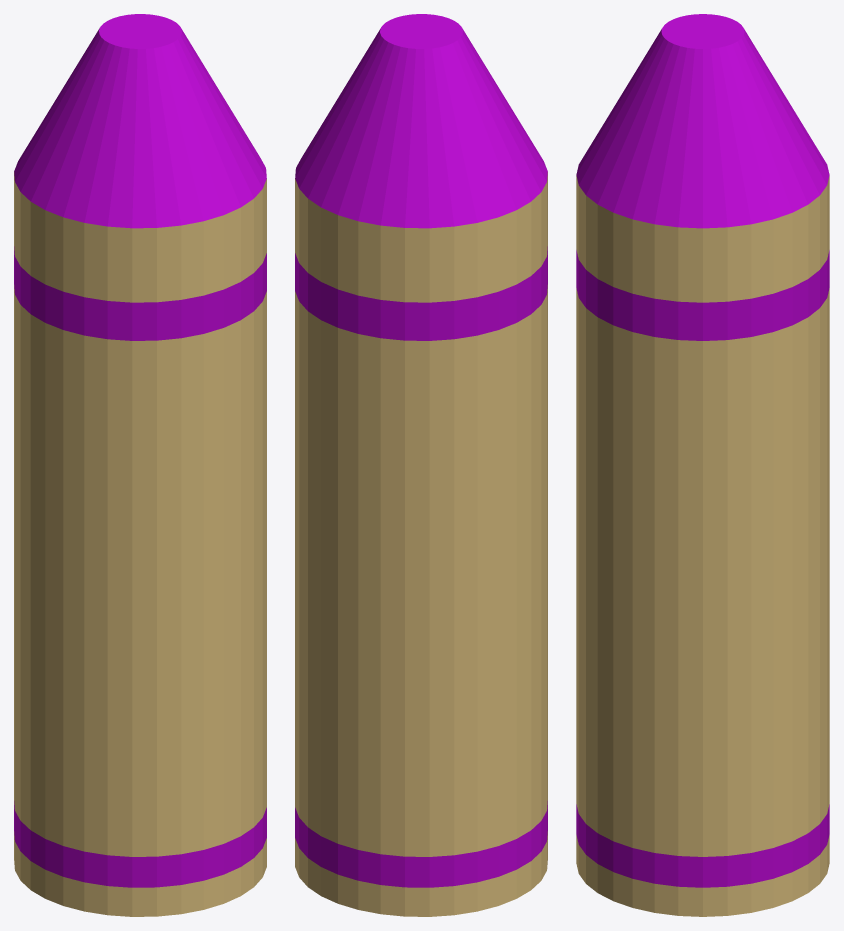
File: crayon purple.fbx
The picture shows the model from 3 angles, left to right: view 1: azimuth 30°, elevation 25°; view 2: azimuth 150°, elevation 25°; view 3: azimuth 270°, elevation 25°; orthographic projection.
Visible parts, largest first — view 1: Cylinder; view 2: Cylinder; view 3: Cylinder.
Boxes of the visible parts, left/top/right/bottom form: Cylinder: left=14, top=14, right=266, bottom=916; Cylinder: left=295, top=14, right=547, bottom=916; Cylinder: left=576, top=14, right=829, bottom=916.
Size of the model in its own units: 20 by 72.49 by 20.
